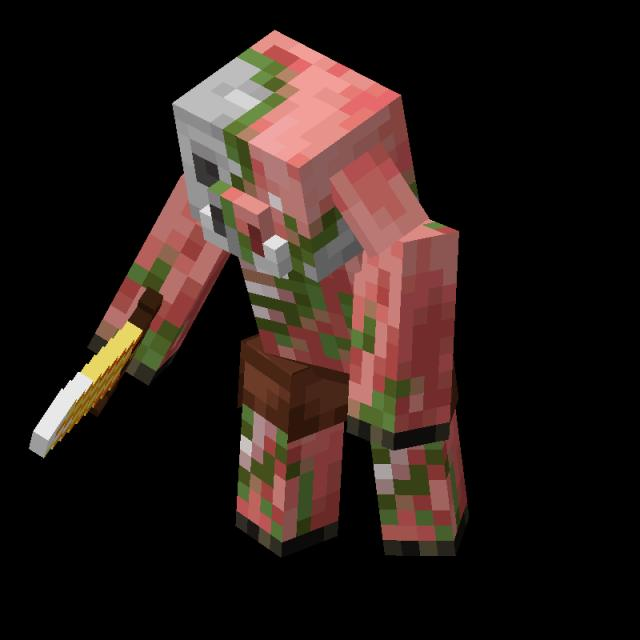Zombified Piglin: (31, 30, 469, 556)
